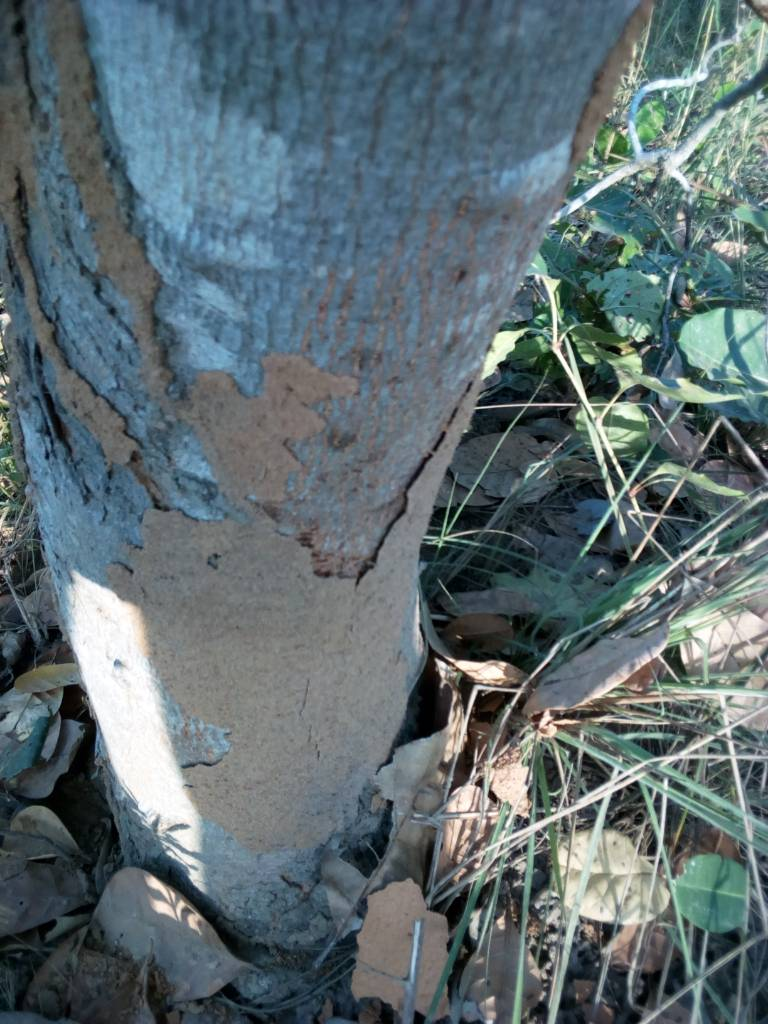Termites: (93, 499, 411, 858), (172, 355, 360, 503)
